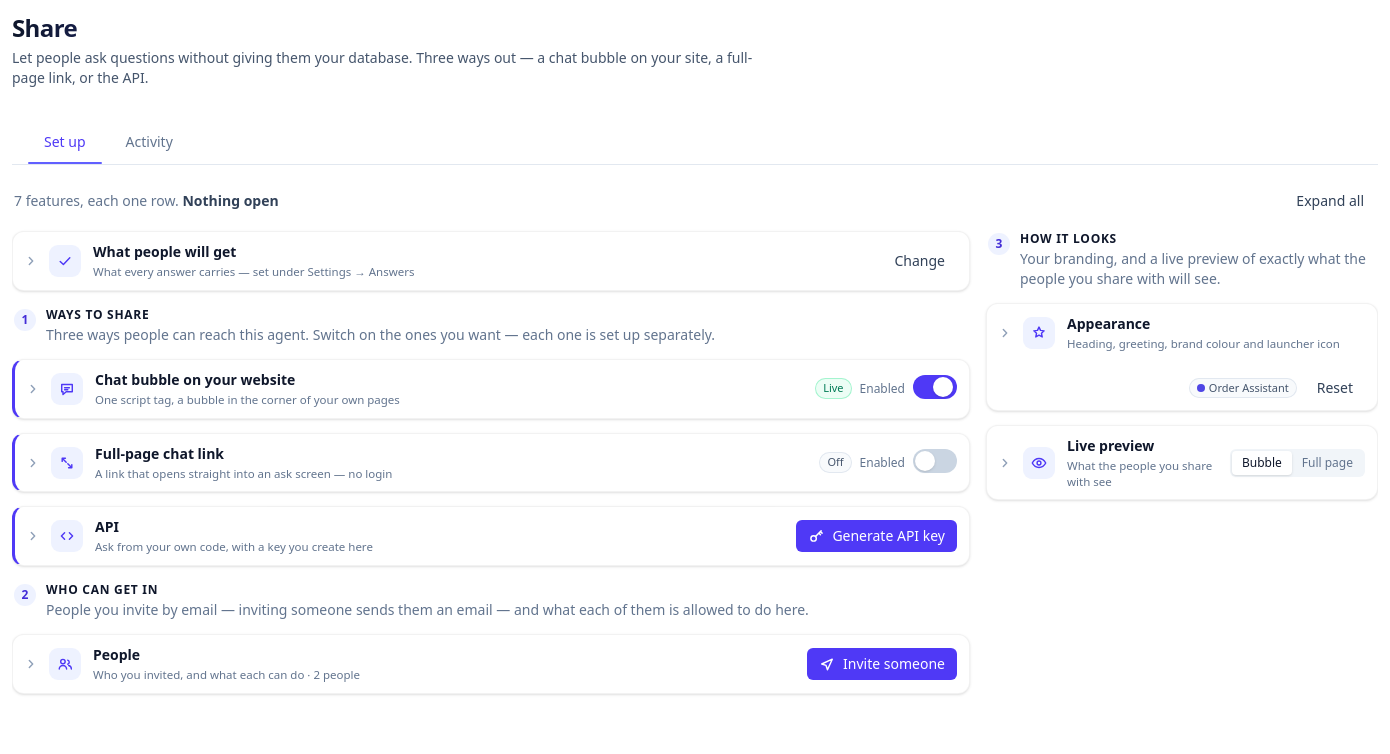
Test: Share rows under change › keeps an open row open when its own switch is flipped
This screenshot has width=1390, height=754.
What coordinates should you click on to do the following:
click the button that starts with "Chat bubble on your website"
I would click on:
 (67, 389)
Its box is [15,360,803,418].
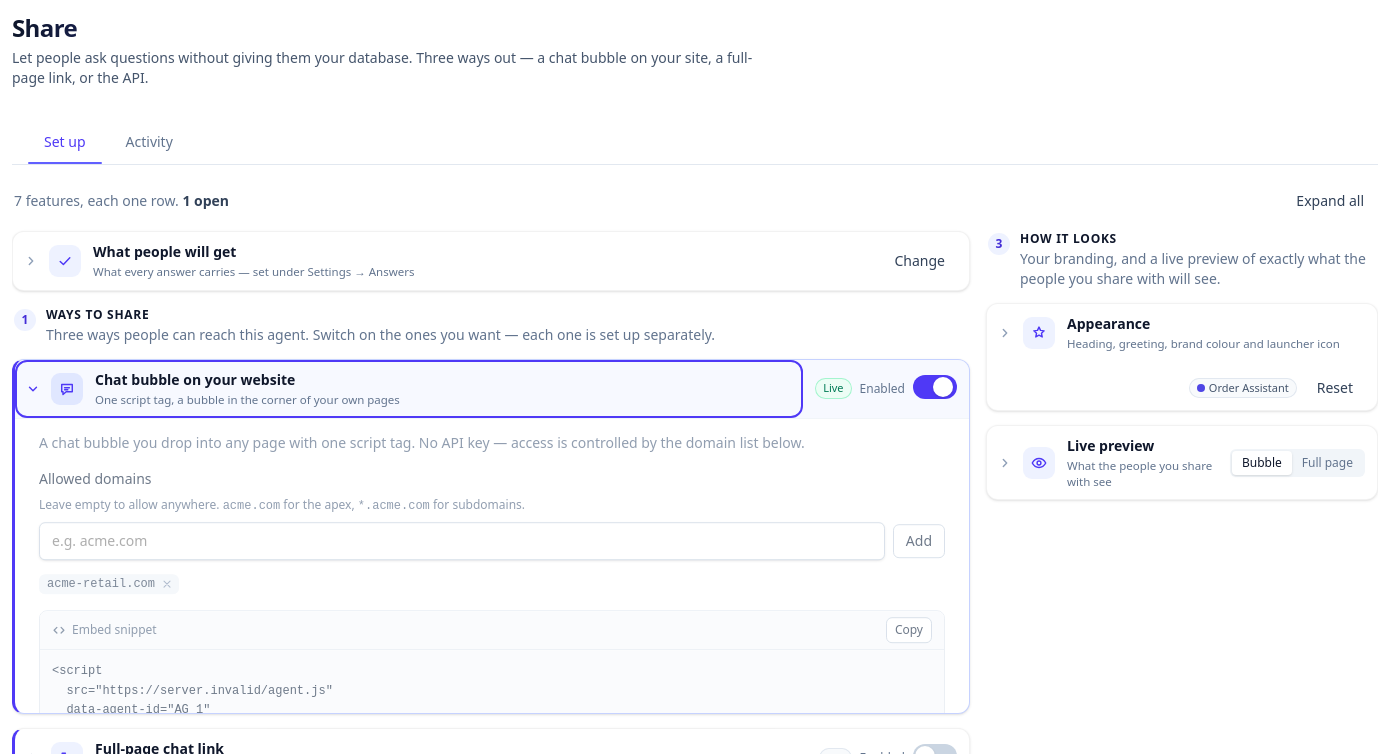
What coordinates should you click on to do the following:
click the switch named "Enable the chat bubble"
I would click on:
 (935, 387)
Its box is [913,375,957,399].
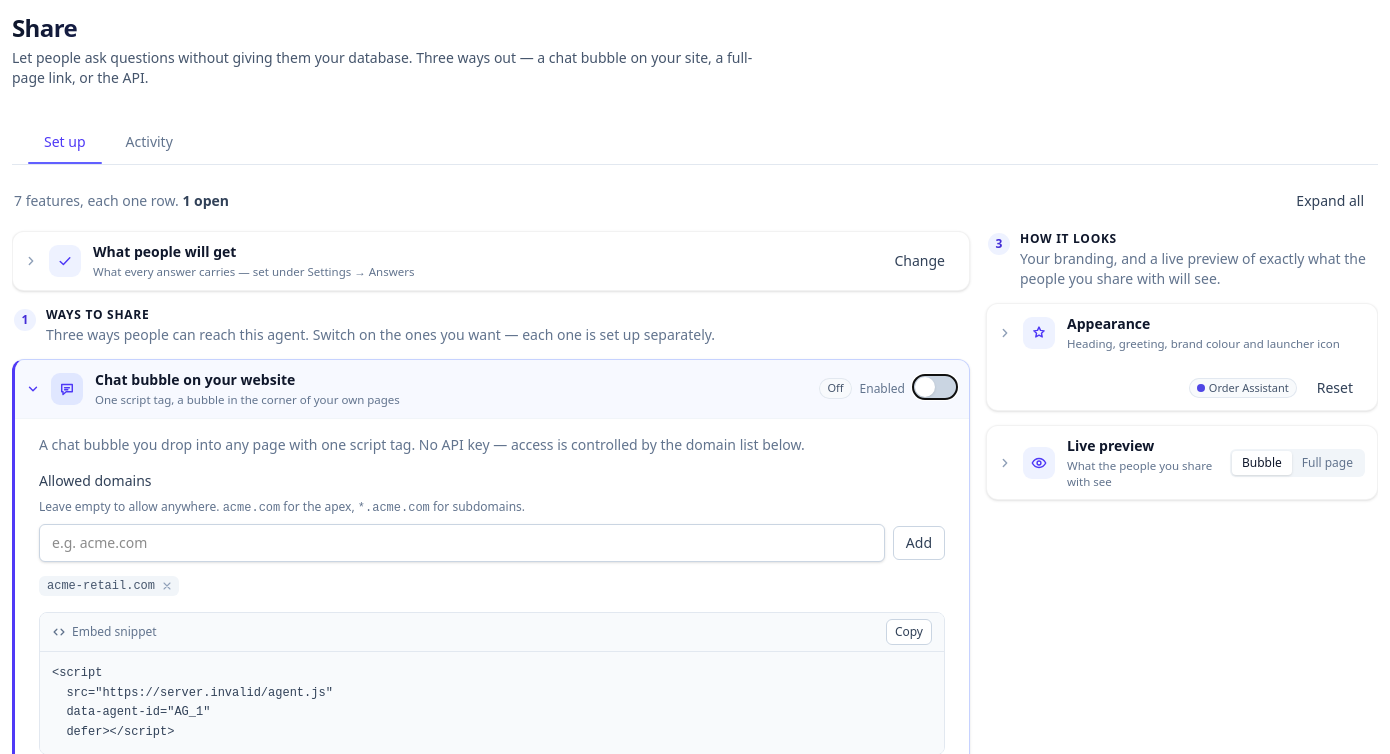
expect the button that starts with "Chat bubble on your website" is expanded: met, box [15,360,807,418]
expect the text "Embed snippet" is shown: met, box [52,624,157,640]
